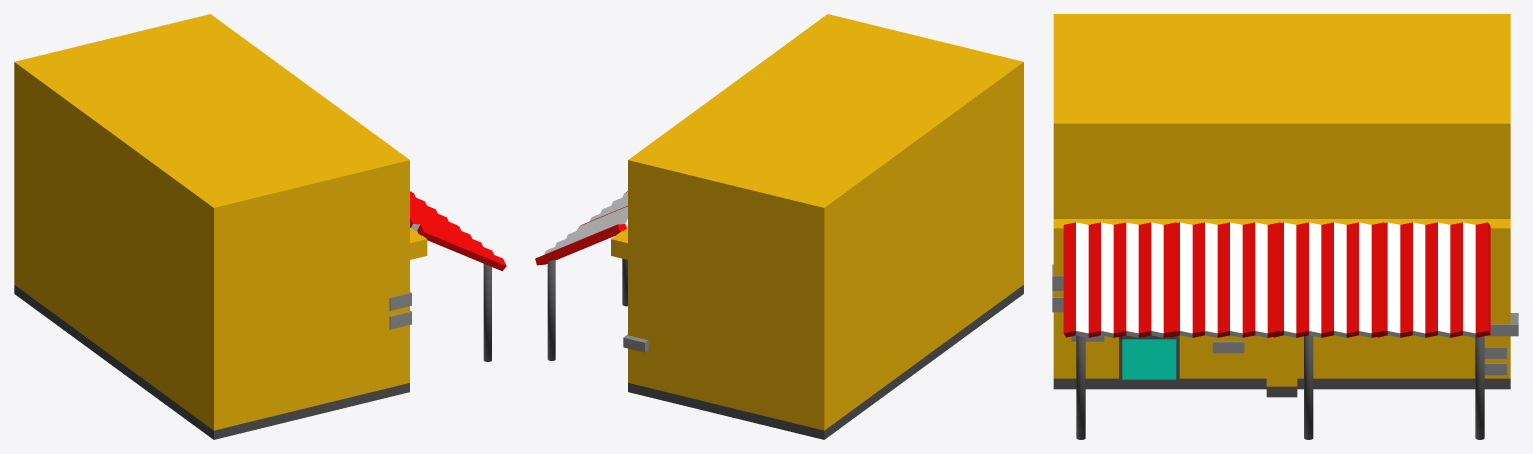
File: Store1.fbx
The picture shows the model from 3 angles, left to right: view 1: azimuth 30°, elevation 25°; view 2: azimuth 150°, elevation 25°; view 3: azimuth 270°, elevation 25°; orthographic projection. The views are drawn at different scales.
Visible parts, largest first — view 1: Plane; view 2: Plane; view 3: Plane.
Part boxes in pixels (box(x1,y1,x2,y2)): Plane: box(14, 14, 506, 439); Plane: box(535, 14, 1023, 439); Plane: box(1052, 14, 1518, 439).
Size of the model in its own units: 722 by 535 by 851.
